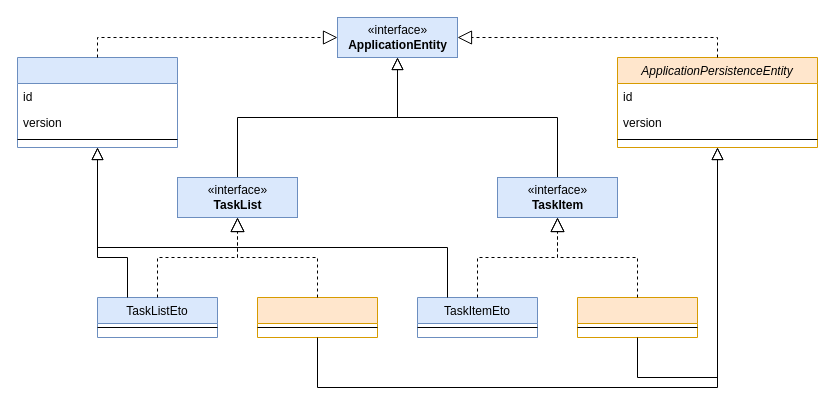
This 835x417 diagram has some shape labels left out. The shapes that lost their labels are listed below. From the top down, each one's box as (x1, y1, x2, y2) in pixels, then its label:
(16, 56, 178, 148): AbstractEto
(256, 296, 378, 338): TaskListEntity
(576, 296, 698, 338): TaskItemEntity
